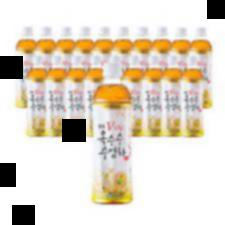oksususuyeomcha: (93, 62, 134, 205), (182, 55, 204, 138), (47, 54, 68, 138), (27, 52, 47, 139), (15, 26, 36, 107), (162, 55, 183, 136), (144, 54, 164, 137), (68, 54, 86, 139)
